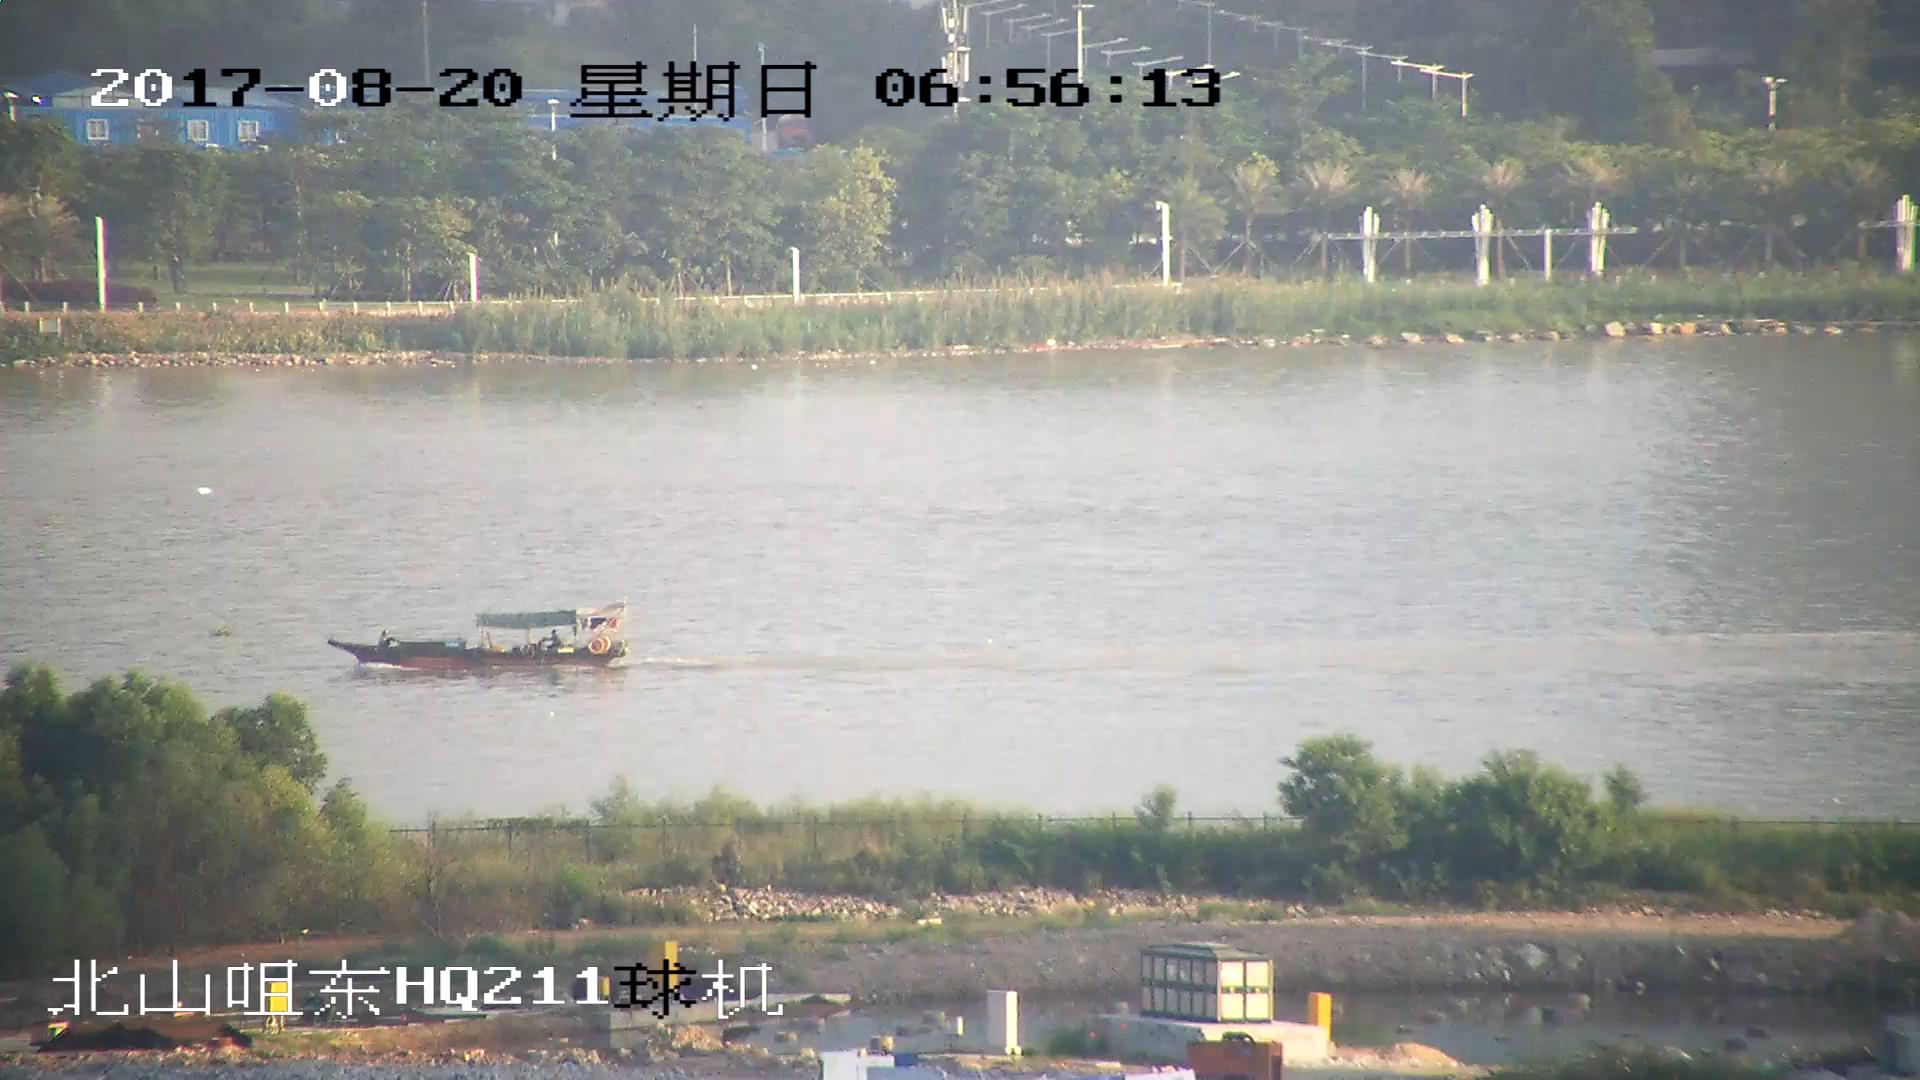fishing boat: (333, 602, 627, 672)
